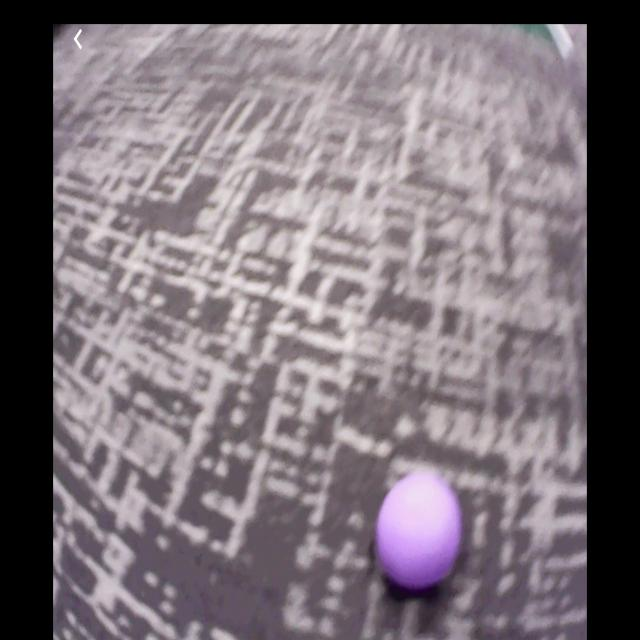ball: (379, 477, 461, 593)
